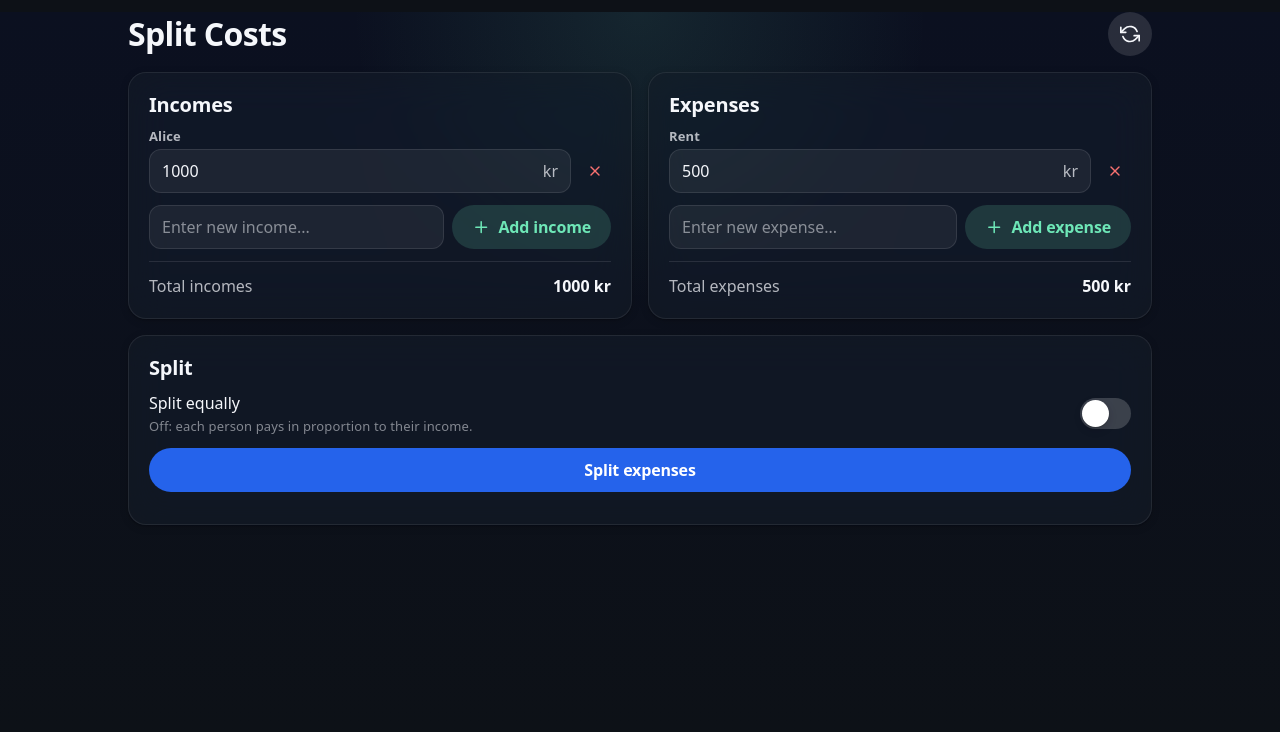
Test: CostCalculator › splitting › rejects negative amounts with inline guidance and excludes them from totals
Replace the text in the number field named "Amount for Rent" with "-5" at (868, 171), box [682,151,1055,191]
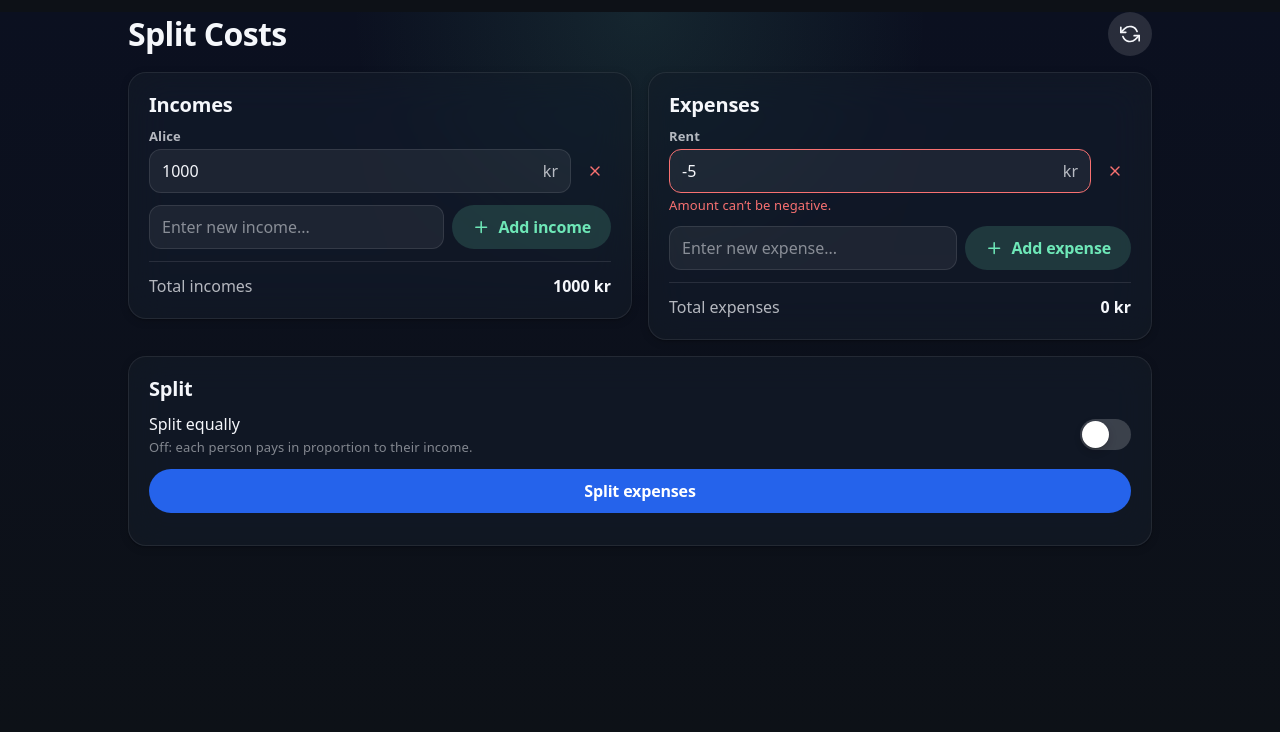
Expected: the text named "Total expenses" reads "0 kr", [1100,296,1131,318]
Click the button "Split expenses" at (640, 491), box [149,469,1131,513]
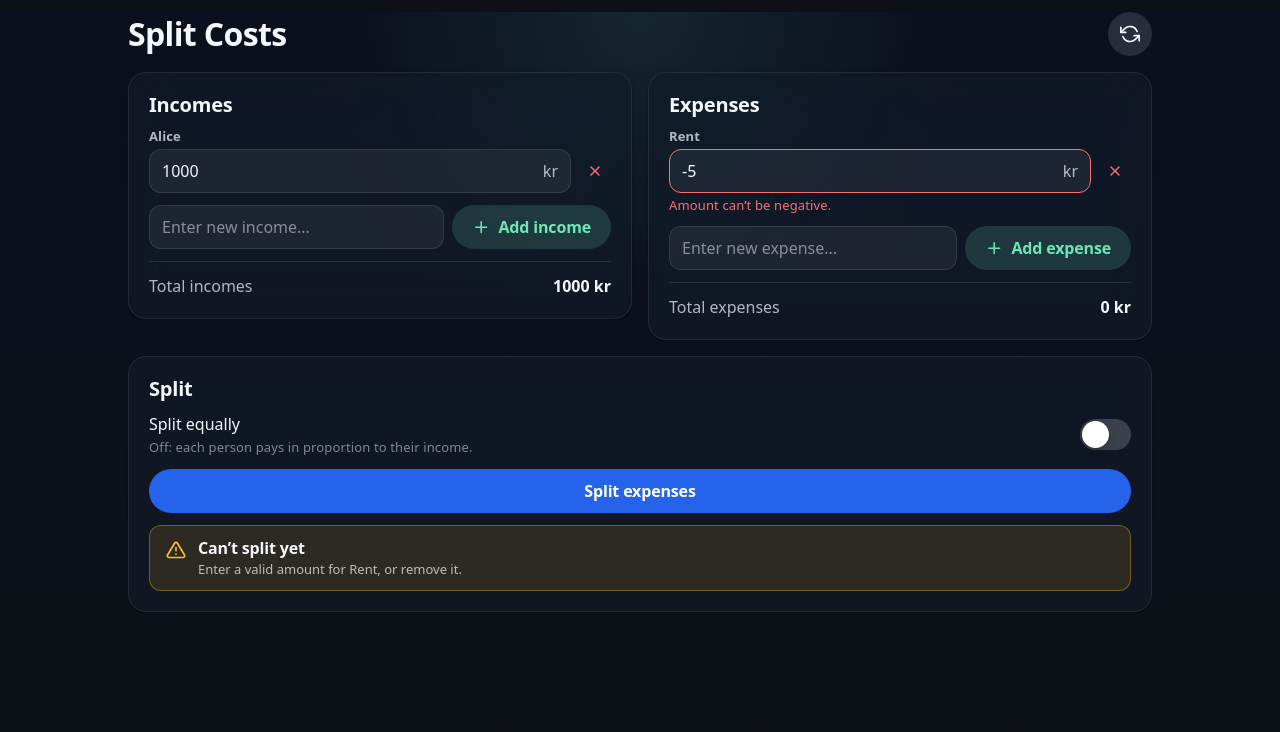
Expected: the list item "Enter a valid amount for Rent, or remove it." is shown, [198,560,462,578]
